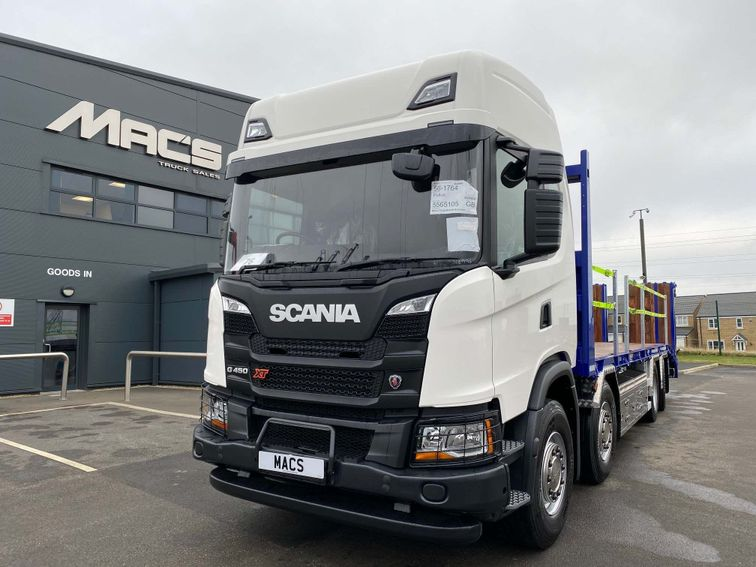Semi: (193, 50, 675, 548)
